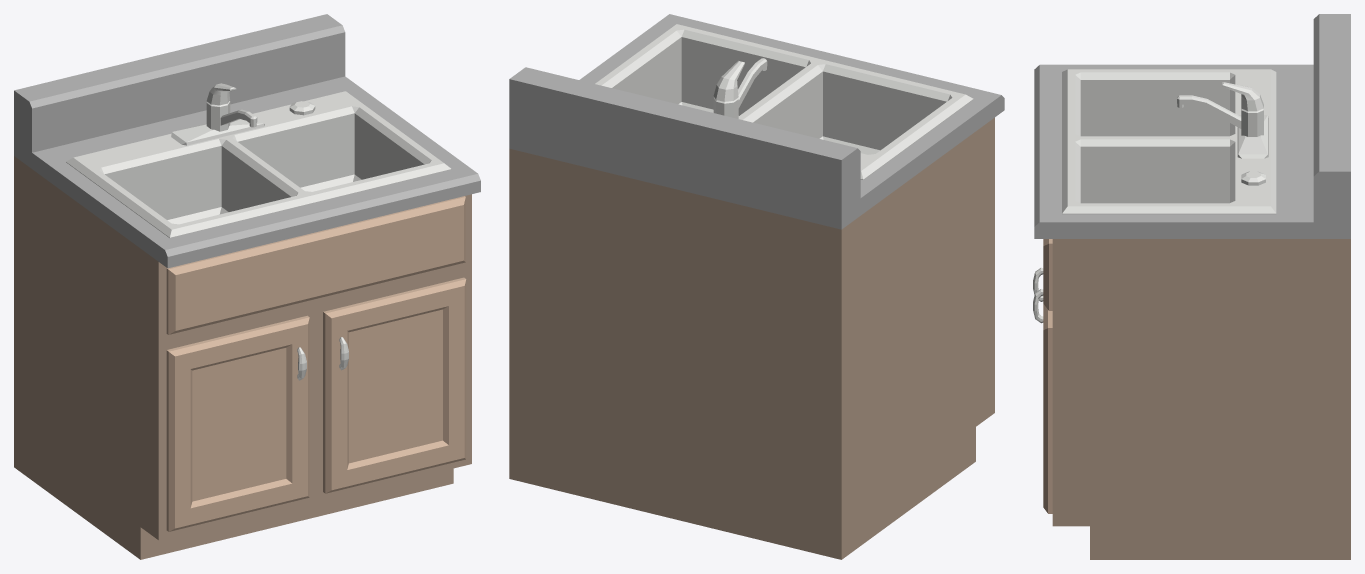
File: Structure_Kitchen_Cabinet_Base_Sink.fbx
3 renders of one model, left to right at view 1: azimuth 30°, elevation 25°; view 2: azimuth 150°, elevation 25°; view 3: azimuth 270°, elevation 25°, orthographic. The views are drawn at different scales.
Visible parts, largest first — view 1: object7.008, object2.049, object6.010, object4.029, object1.087; view 2: object7.008, object2.049, object6.010; view 3: object7.008, object6.010, object2.049, object4.029.
Part boxes in pixels (<box>): object7.008: <box>14,156,471,559</box>; object2.049: <box>14,14,480,268</box>; object6.010: <box>66,83,451,238</box>; object4.029: <box>323,277,466,493</box>; object1.087: <box>166,315,309,531</box>; object7.008: <box>509,117,994,559</box>; object2.049: <box>509,14,1004,229</box>; object6.010: <box>595,24,973,179</box>; object7.008: <box>1043,239,1350,559</box>; object6.010: <box>1062,69,1276,214</box>; object2.049: <box>1034,14,1350,238</box>; object4.029: <box>1043,304,1052,513</box>.
Size of the model in its own units: 100 by 118 by 85.31.
